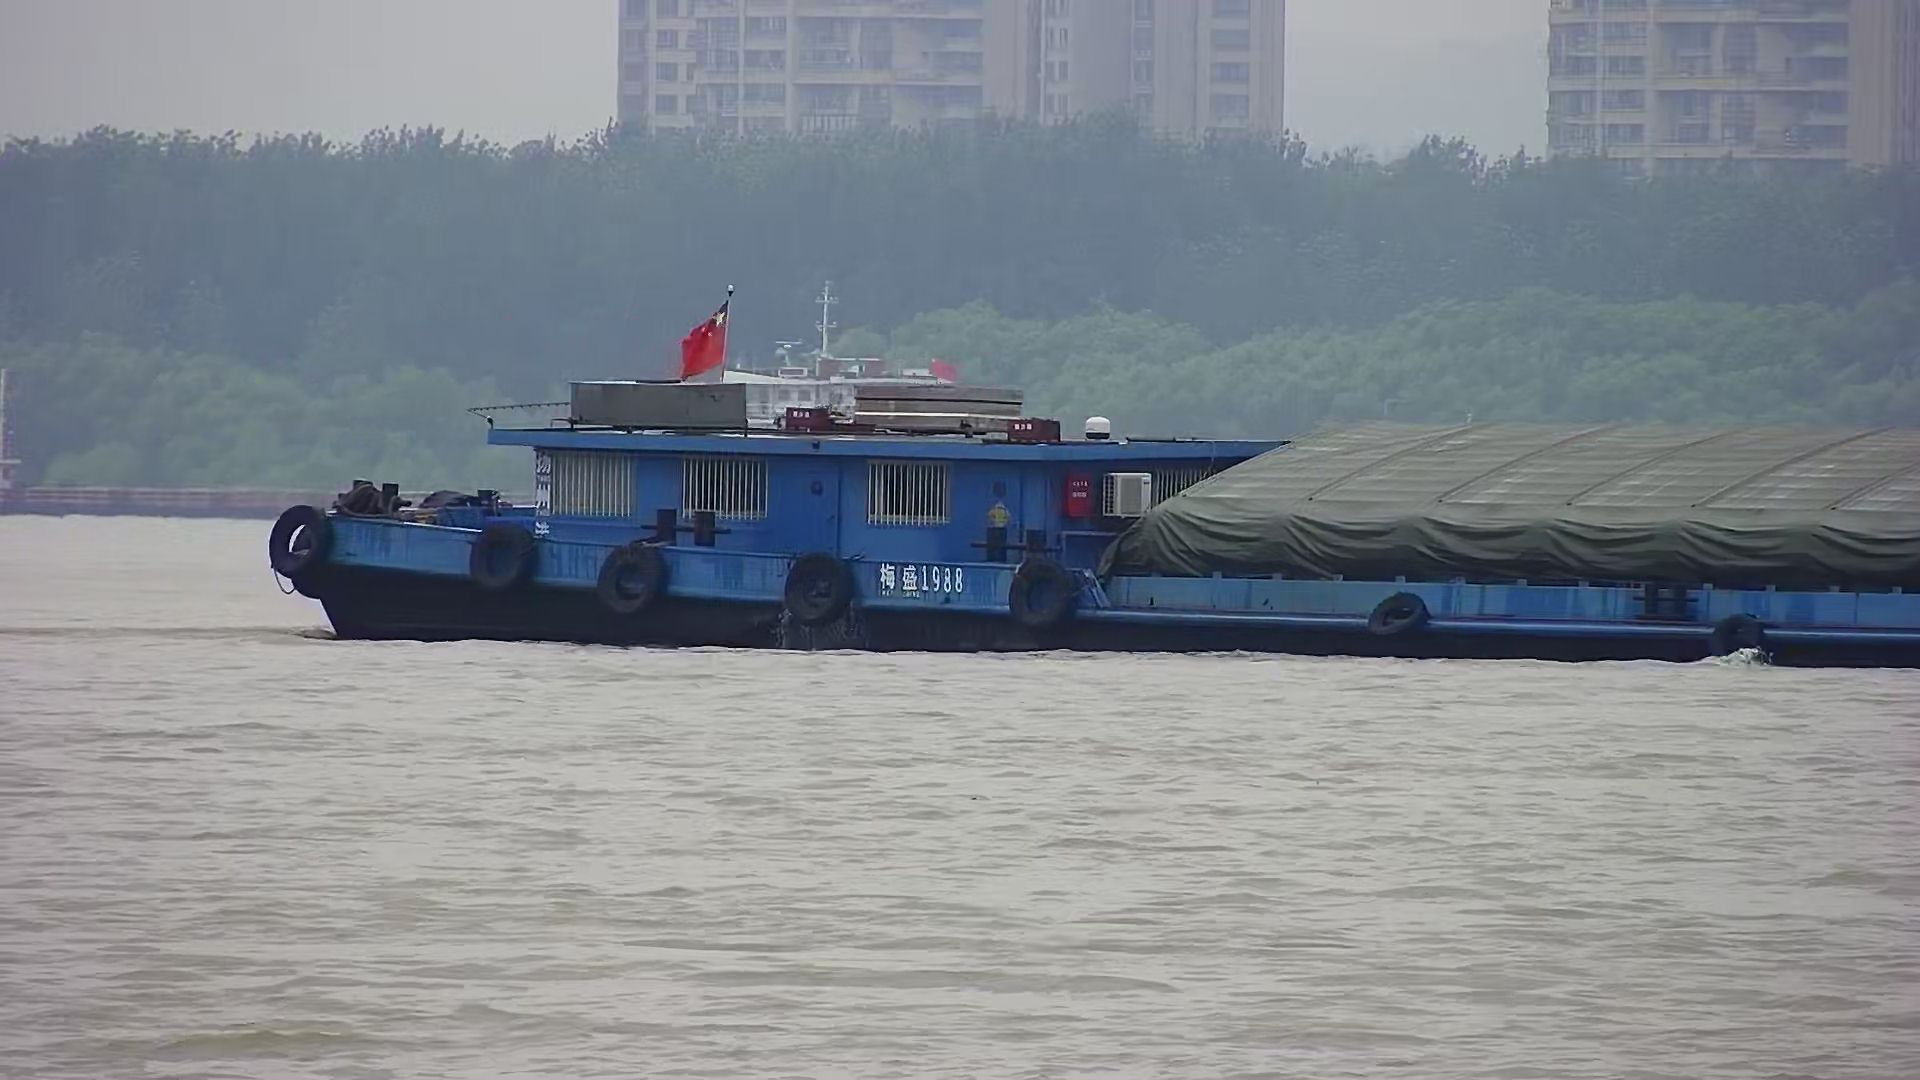ship: (260, 269, 1920, 686)
